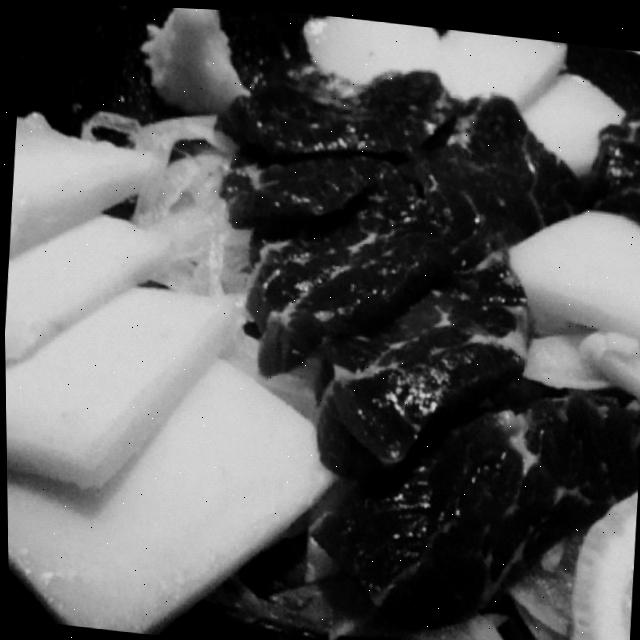刺身生食: (166, 40, 640, 619)
